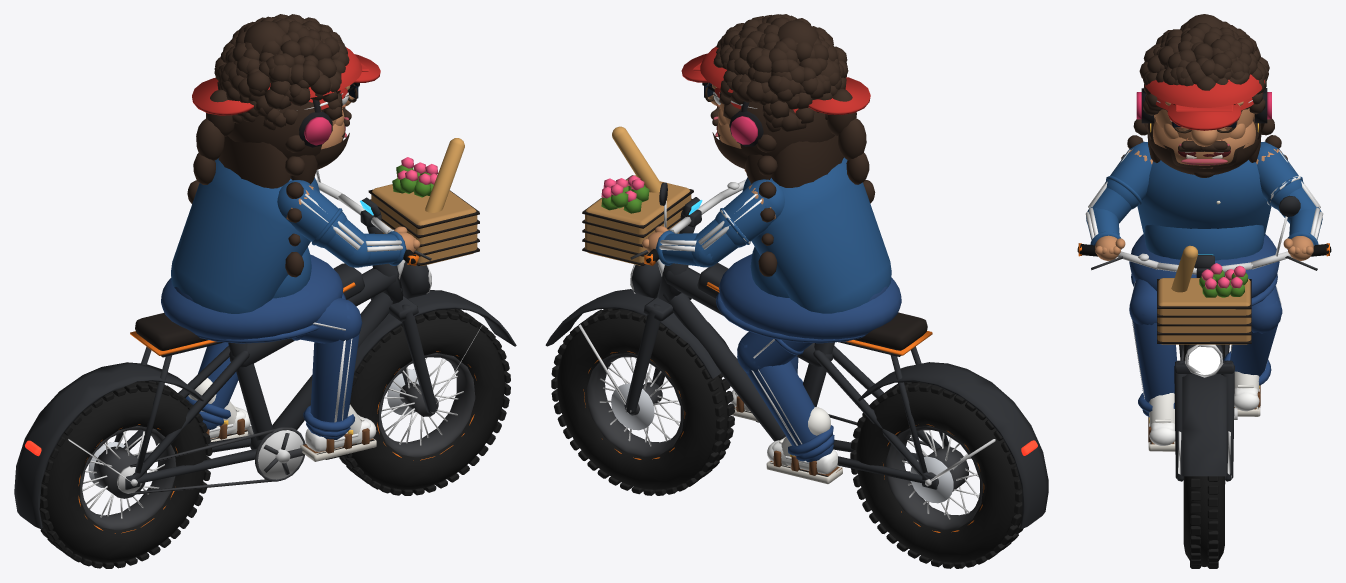
File: riders_lod.glb
3 renders of one model, left to right at view 1: azimuth 30°, elevation 25°; view 2: azimuth 150°, elevation 25°; view 3: azimuth 270°, elevation 25°, orthographic. The views are drawn at different scales.
Parts seen in each view (by area): view 1: Bike_Frame, Bike_WheelRear, Bike_WheelFront, Rider_Torso.003, Rider_Hair, Bike_Basket, Rider_Torso.008, Rider_LegR.003, Rider_ArmR, Rider_Hair.005, Rider_Hair.008, Rider_Hair.007 (+16 smaller); view 2: Bike_Frame, Bike_WheelFront, Bike_WheelRear, Rider_Torso.003, Rider_Hair, Rider_Torso.008, Bike_Basket, Rider_LegL.003, Rider_Hair.005, Rider_ArmL, Rider_Hair.010, Rider_Hair.007 (+13 smaller); view 3: Bike_Frame, Bike_Basket, Rider_Torso.003, Rider_Hair, Rider_LegR.003, Bike_WheelFront, Rider_Torso.004, Rider_LegL.003, Rider_Head.003, Rider_Torso.008, Rider_Hair.003, Bike_Handlebar (+18 smaller).
Boxes of the visible parts, box(x1,y1,x2,y2) form: Bike_Frame: box(14, 261, 516, 528); Bike_WheelRear: box(39, 381, 212, 568); Bike_WheelFront: box(339, 309, 510, 495); Rider_Torso.003: box(171, 158, 319, 313); Rider_Hair: box(214, 14, 349, 106); Bike_Basket: box(368, 138, 479, 279); Rider_Torso.008: box(161, 254, 345, 343); Rider_LegR.003: box(293, 298, 376, 461); Rider_ArmR: box(300, 185, 419, 267); Rider_Hair.005: box(218, 136, 317, 188); Rider_Hair.008: box(228, 54, 380, 158); Rider_Hair.007: box(214, 39, 342, 130); Bike_Frame: box(545, 261, 1048, 528); Bike_WheelFront: box(551, 308, 734, 495); Bike_WheelRear: box(850, 382, 1023, 568); Rider_Torso.003: box(742, 157, 891, 313); Rider_Hair: box(715, 14, 848, 103); Rider_Torso.008: box(716, 254, 901, 343); Bike_Basket: box(582, 126, 693, 276); Rider_LegL.003: box(737, 331, 841, 483); Rider_Hair.005: box(713, 58, 843, 187); Rider_ArmL: box(642, 185, 766, 267); Rider_Hair.010: box(729, 101, 875, 276); Rider_Hair.007: box(719, 45, 846, 132); Bike_Frame: box(1174, 344, 1234, 481); Bike_Basket: box(1157, 245, 1251, 344); Rider_Torso.003: box(1137, 160, 1271, 235); Rider_Hair: box(1139, 20, 1269, 94); Rider_LegR.003: box(1129, 279, 1176, 451); Bike_WheelFront: box(1177, 475, 1231, 568); Rider_Torso.004: box(1144, 224, 1264, 260); Rider_LegL.003: box(1223, 285, 1282, 416); Rider_Head.003: box(1147, 102, 1261, 174); Rider_Torso.008: box(1129, 201, 1279, 305); Rider_Hair.003: box(1145, 74, 1265, 111); Bike_Handlebar: box(1077, 195, 1331, 277).
Bounding box in the file's own units: 1.91 × 1.9 × 0.9221.
